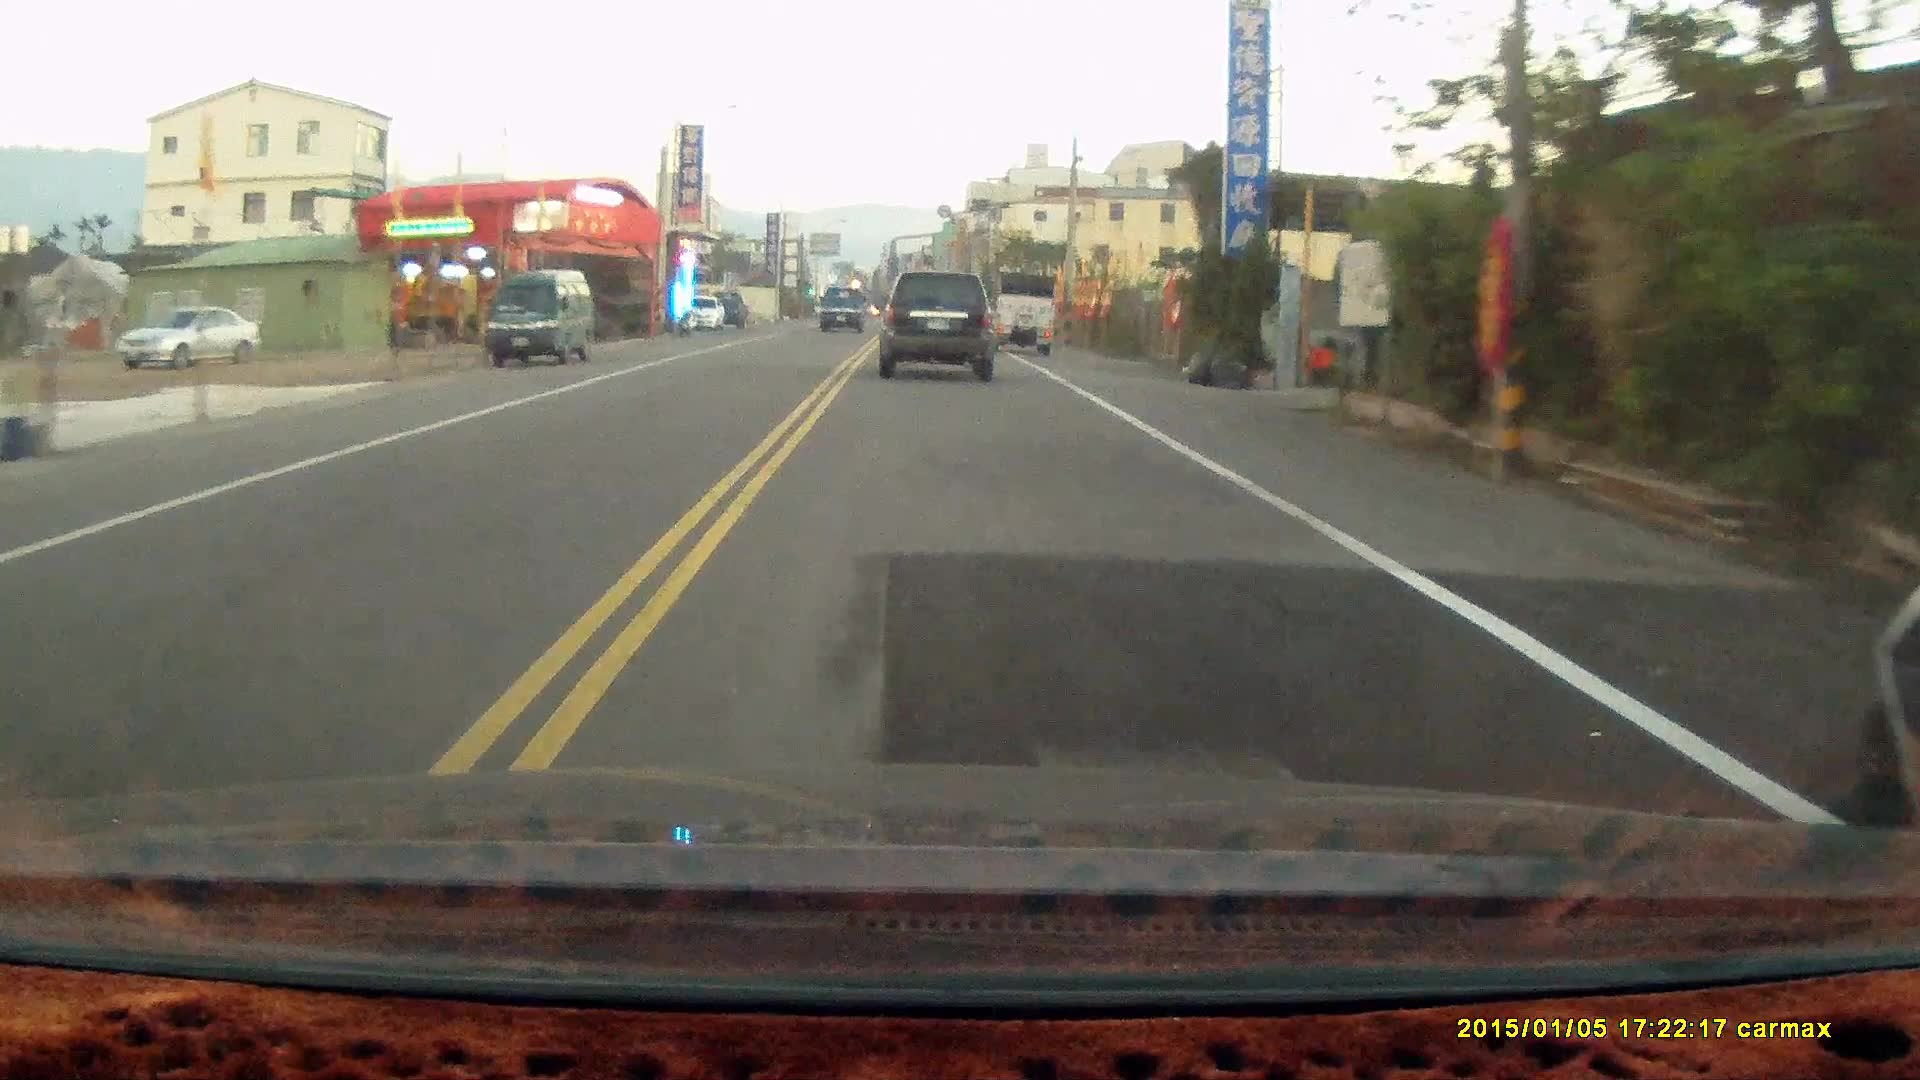vehicle: (869, 266, 1006, 386), (487, 268, 593, 371), (115, 303, 262, 375), (981, 274, 1058, 359), (818, 287, 869, 336)
